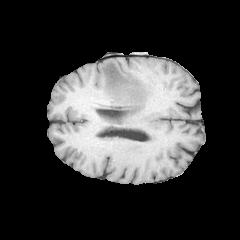glioma: (100, 61, 154, 117)
